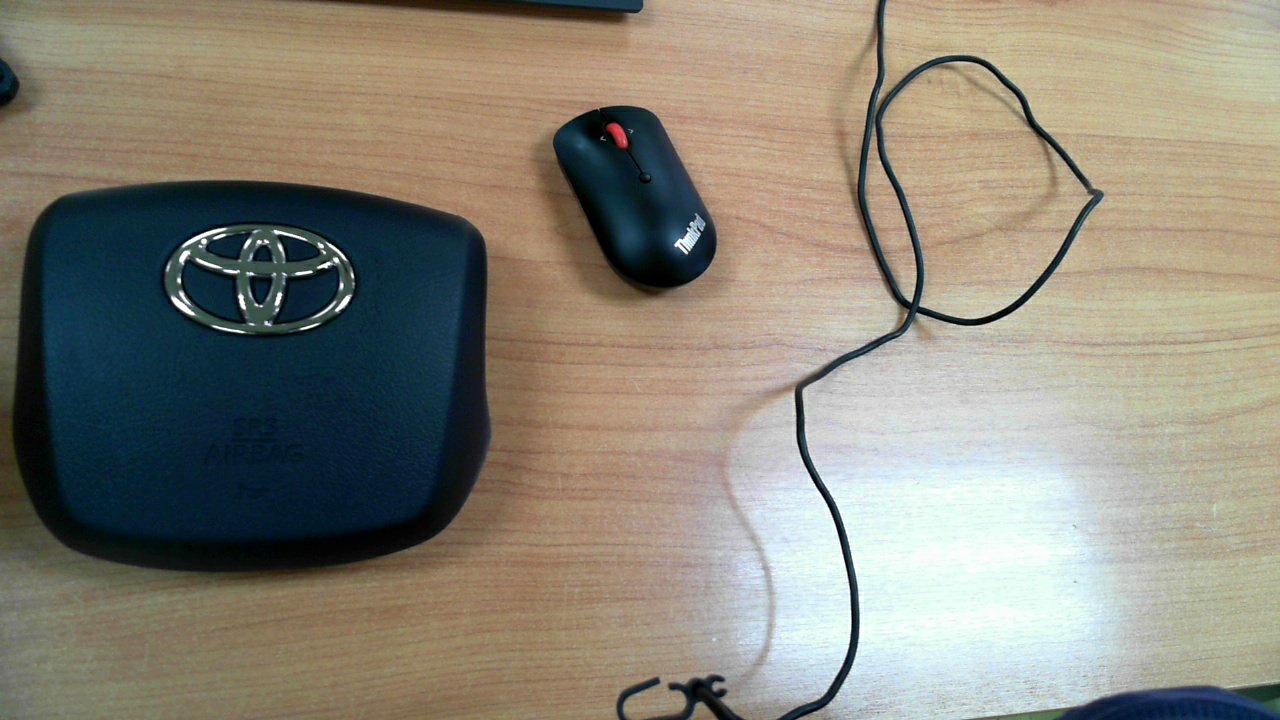Airbag: (0, 151, 496, 607)
